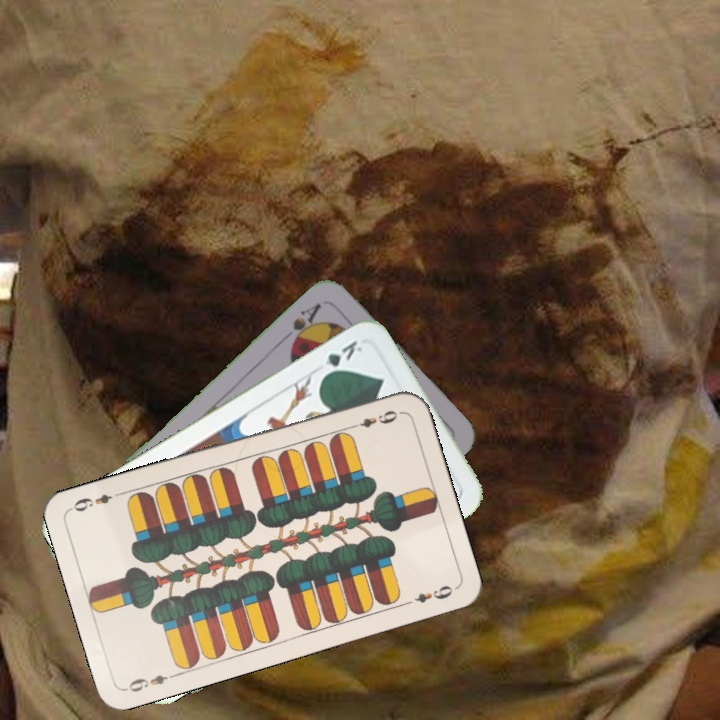E9: (122, 669, 180, 695), (345, 406, 400, 431)
GK: (317, 336, 365, 381)
SA: (287, 298, 325, 349)
